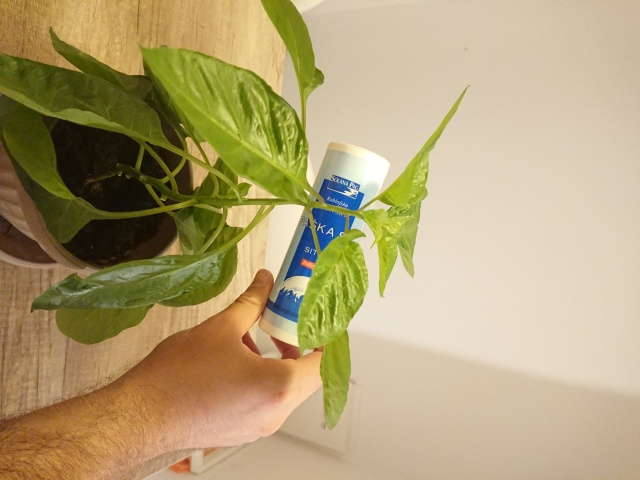Solana Pag Fine Sea Salt 250g: (256, 139, 393, 351)
